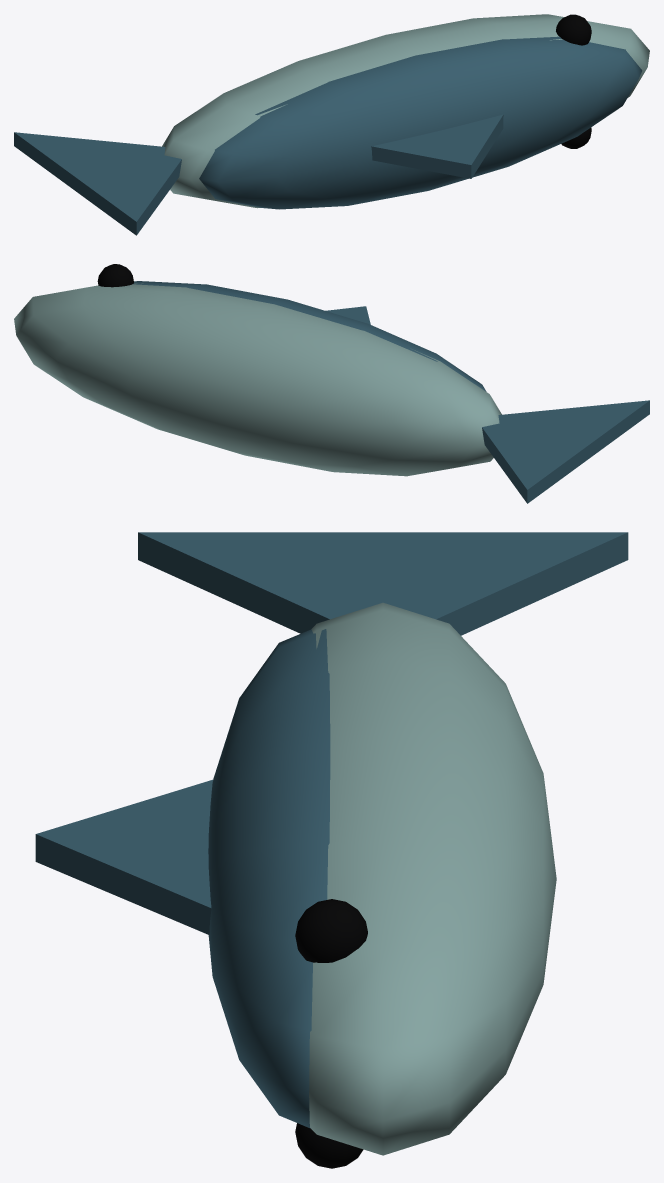
File: SM_FishHaddock.obj
The picture shows the model from 3 angles, top to bottom: view 1: azimuth 30°, elevation 25°; view 2: azimuth 150°, elevation 25°; view 3: azimuth 270°, elevation 25°; orthographic projection. The views are drawn at different scales.
Visible parts, largest first — view 1: SM_FishHaddock; view 2: SM_FishHaddock; view 3: SM_FishHaddock.
Boxes of the visible parts, x1=… form: SM_FishHaddock: x1=14, y1=14, x2=649, y2=235; SM_FishHaddock: x1=14, y1=264, x2=649, y2=503; SM_FishHaddock: x1=35, y1=532, x2=628, y2=1168.
Size of the model in its own units: 64.96 by 15 by 29.
